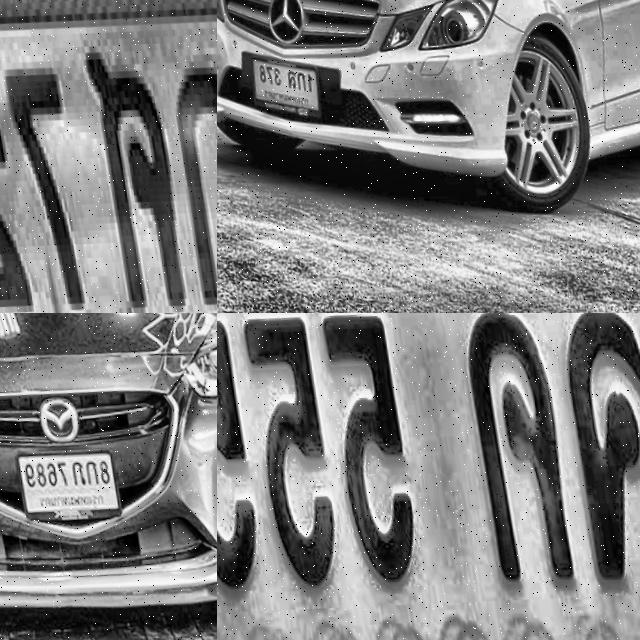license-plate: (217, 313, 640, 640), (0, 0, 217, 313), (6, 435, 119, 524), (240, 45, 318, 125)
